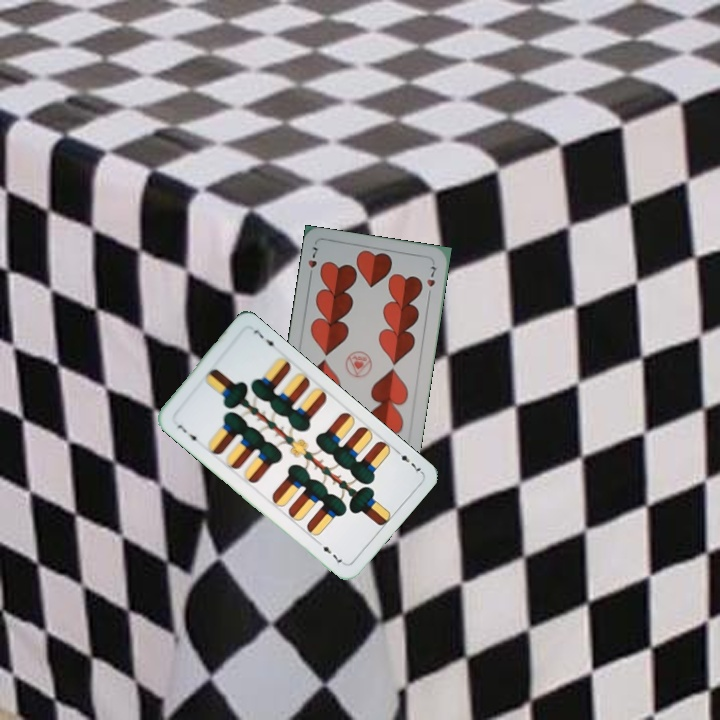E7: (391, 445, 425, 476), (173, 420, 201, 447)
H7: (304, 242, 321, 282)
